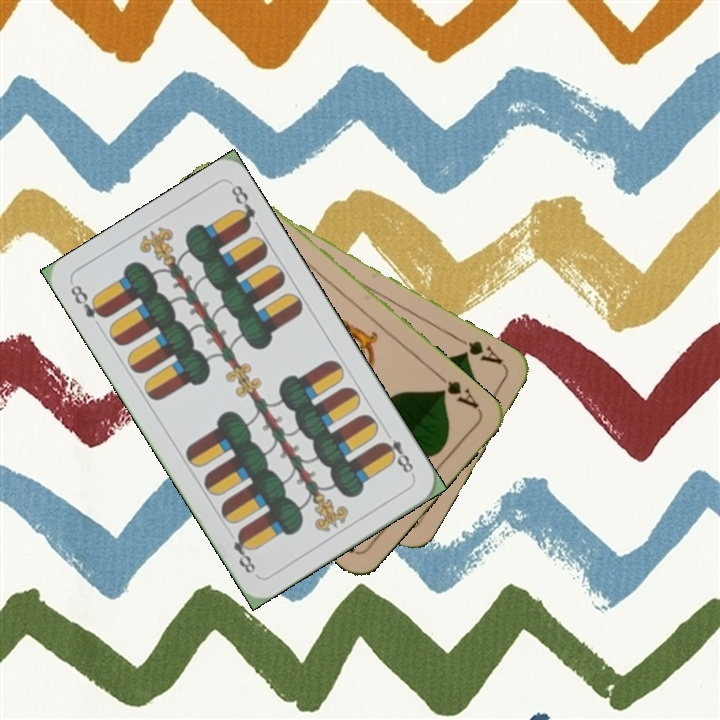E8: (376, 426, 417, 479), (66, 280, 110, 321)
GA: (433, 370, 482, 413), (452, 332, 505, 367)
